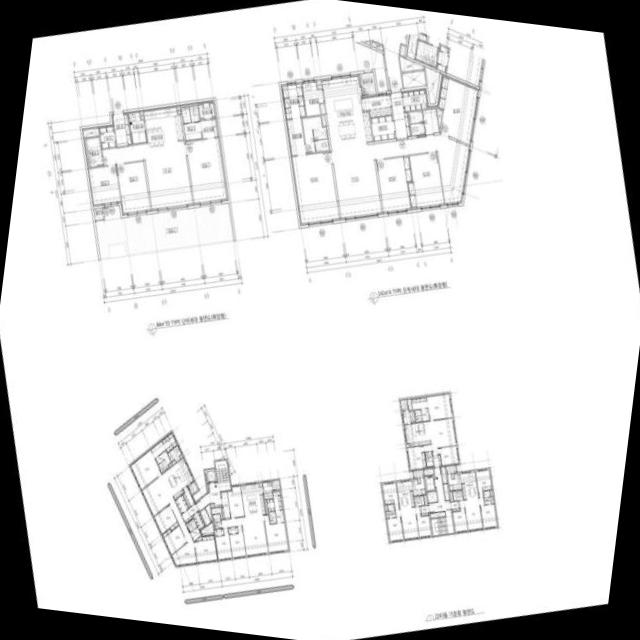background: (0, 0, 640, 640)
space_balconi: (187, 480, 197, 494), (271, 479, 279, 489)
space_bedroom: (290, 151, 339, 224), (436, 73, 478, 144), (185, 137, 227, 204), (407, 151, 443, 209), (376, 155, 411, 213), (116, 160, 150, 214), (87, 164, 120, 206), (129, 448, 161, 489), (263, 514, 288, 552), (161, 525, 186, 554), (153, 504, 178, 533), (426, 393, 451, 419), (194, 534, 217, 562), (226, 484, 243, 517), (229, 525, 245, 557), (215, 527, 231, 559), (407, 445, 426, 469), (382, 482, 399, 508), (475, 469, 491, 496), (386, 516, 403, 540), (437, 445, 458, 464), (480, 503, 496, 527), (415, 513, 431, 536), (452, 507, 467, 531), (214, 528, 223, 535), (228, 526, 237, 533)
space_dressroom: (280, 81, 305, 118), (285, 118, 305, 155), (200, 118, 218, 137), (161, 431, 177, 452), (198, 100, 216, 118), (411, 396, 427, 409), (272, 490, 282, 509), (266, 498, 274, 510)
space_elevator: (204, 468, 216, 482), (424, 475, 435, 490)
space_elevator_hall: (195, 448, 230, 510), (428, 467, 451, 516)
space_front: (389, 91, 410, 138), (111, 112, 131, 145), (401, 87, 428, 110), (98, 124, 115, 148), (181, 503, 198, 522), (220, 491, 230, 518), (192, 510, 205, 529), (175, 494, 188, 513), (432, 454, 441, 466), (450, 500, 459, 511), (419, 505, 428, 515)
space_kitchen: (321, 73, 372, 149), (143, 105, 183, 145), (162, 456, 193, 498), (396, 477, 425, 508), (447, 471, 478, 499), (240, 482, 265, 516), (404, 421, 430, 446)
space_living_room: (331, 134, 469, 219), (101, 140, 192, 210), (141, 474, 196, 565), (221, 514, 268, 555), (423, 417, 455, 455), (395, 506, 420, 538), (459, 497, 484, 529)
space_multipurpose_space: (301, 79, 323, 115), (128, 110, 146, 143)
space_other: (372, 33, 407, 89), (361, 92, 391, 116), (370, 115, 395, 140), (424, 66, 439, 103), (401, 69, 426, 87), (399, 55, 423, 71), (182, 485, 194, 507), (167, 444, 181, 461), (81, 126, 98, 137), (402, 409, 415, 423), (200, 507, 210, 525), (262, 480, 272, 498), (201, 521, 213, 533), (211, 506, 222, 518), (426, 490, 437, 502), (319, 103, 325, 125), (204, 503, 211, 521), (436, 107, 442, 128), (440, 466, 447, 483), (429, 510, 445, 517), (442, 483, 449, 499), (371, 41, 382, 50), (399, 44, 405, 55), (423, 468, 433, 474), (407, 398, 412, 409), (316, 78, 321, 88), (168, 459, 175, 466), (449, 490, 453, 501), (264, 499, 267, 513), (423, 494, 427, 504), (176, 104, 180, 113), (139, 110, 143, 118), (195, 535, 201, 540), (258, 481, 262, 486), (384, 504, 387, 510), (489, 489, 492, 495), (206, 483, 208, 491), (179, 453, 182, 458), (417, 478, 420, 482), (210, 503, 214, 506), (406, 443, 409, 446), (451, 474, 453, 478)
space_outdoor_room: (359, 71, 376, 94), (93, 207, 103, 219), (399, 398, 408, 409), (445, 464, 456, 473), (413, 469, 423, 478)
space_staircase: (430, 515, 454, 535), (220, 459, 229, 481)
space_toilet: (301, 115, 329, 152), (85, 136, 102, 166), (422, 108, 438, 133), (155, 450, 170, 472), (183, 121, 201, 139), (150, 440, 165, 457), (414, 407, 428, 421), (410, 121, 425, 134), (408, 110, 423, 123), (189, 105, 199, 121), (180, 106, 190, 122), (385, 503, 395, 517), (190, 526, 200, 540), (212, 513, 221, 528), (483, 490, 493, 503), (424, 451, 433, 465), (452, 489, 463, 500), (413, 495, 424, 505), (275, 509, 283, 522), (186, 520, 193, 531), (189, 518, 196, 528), (268, 510, 275, 517), (269, 516, 276, 523)
